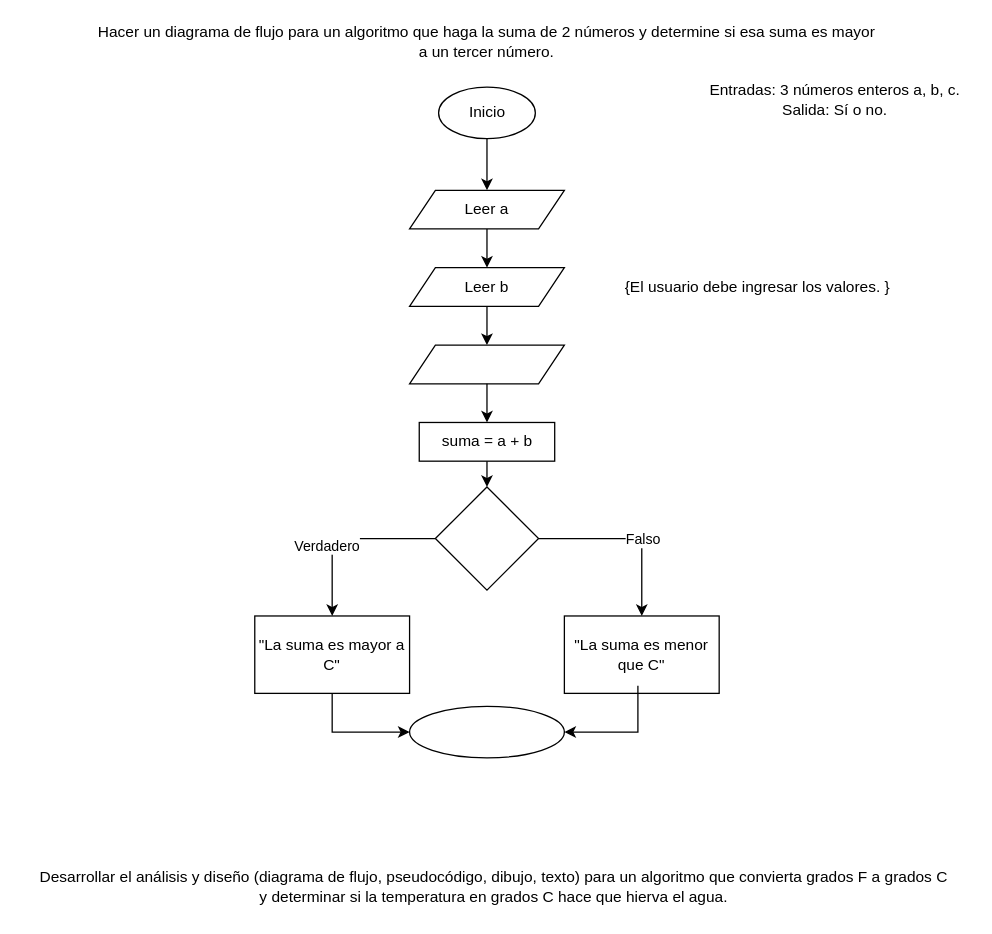
Some shapes in this 992 by 934 pixel diagram are drawn without their labels. Here are the shapes that lost their labels. From the top down, the box of each, then its label:
(408, 344, 564, 384): Leer c
(434, 486, 539, 590): suma > c
(408, 705, 564, 758): Fin
